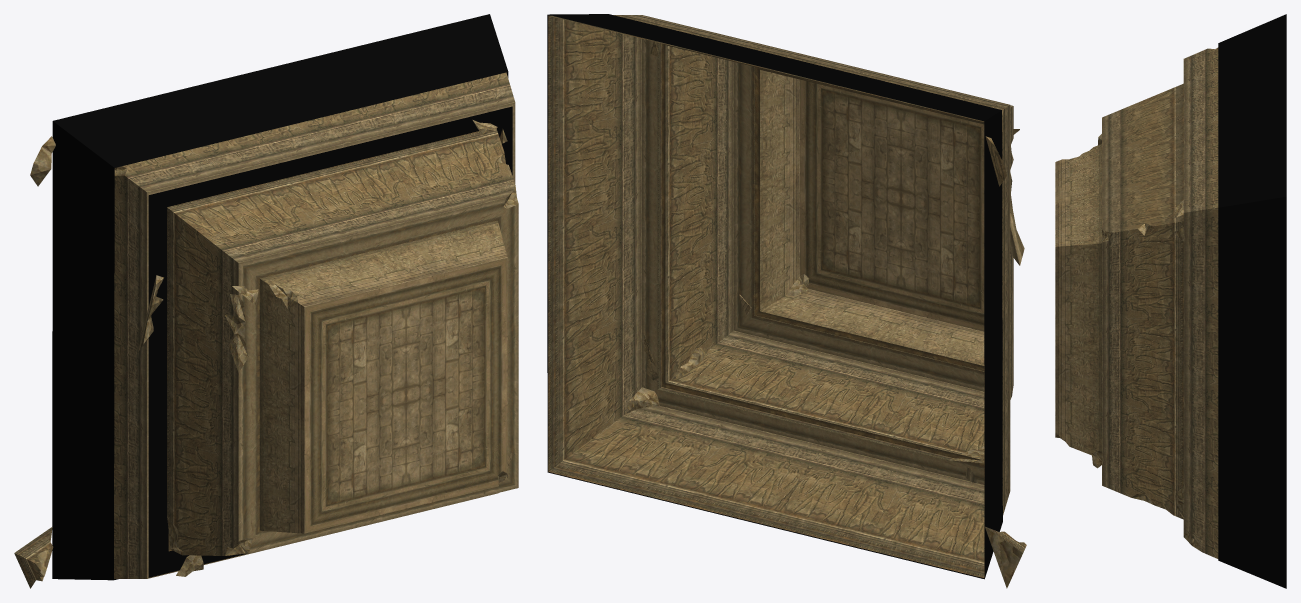
File: aiji_yewai_14_pyramid_01.obj
The picture shows the model from 3 angles, left to right: view 1: azimuth 30°, elevation 25°; view 2: azimuth 150°, elevation 25°; view 3: azimuth 270°, elevation 25°; orthographic projection. The views are drawn at different scales.
Visible parts, largest first — view 1: aiji_yewai_14_pyramid_01; view 2: aiji_yewai_14_pyramid_01; view 3: aiji_yewai_14_pyramid_01.
Boxes of the visible parts, x1,y1,x2,y2 form: aiji_yewai_14_pyramid_01: (14, 14, 518, 588); aiji_yewai_14_pyramid_01: (547, 14, 1026, 588); aiji_yewai_14_pyramid_01: (1055, 14, 1286, 588).
Size of the model in its own units: 2409 by 2238 by 1184.
5 materials, 5 textured.
